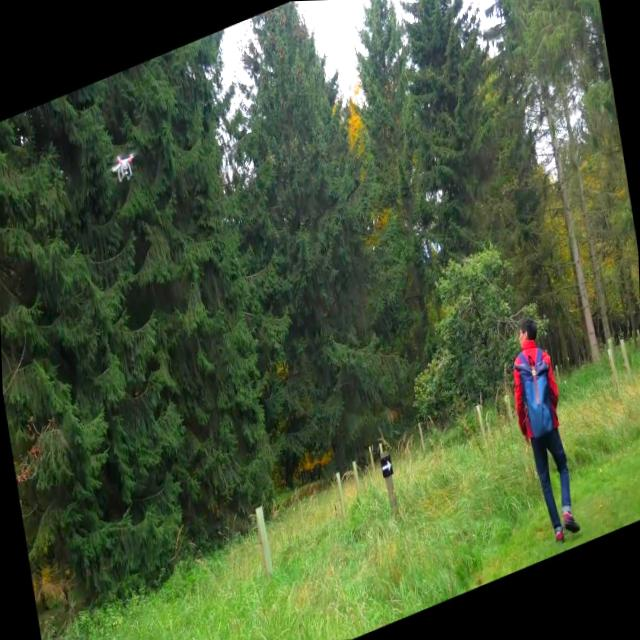drone: (105, 144, 138, 186)
